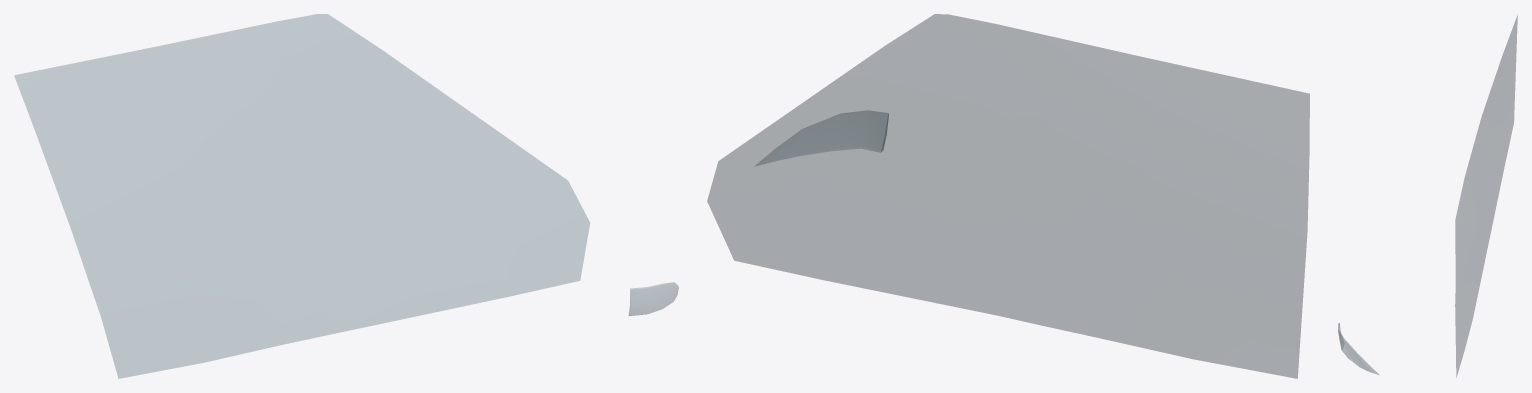
The picture shows the model from 3 angles, left to right: view 1: azimuth 30°, elevation 25°; view 2: azimuth 150°, elevation 25°; view 3: azimuth 270°, elevation 25°; orthographic projection. The views are drawn at different scales.
Parts seen in each view (by area): view 1: SM_NissanPatrol_Door_FR_Glass_Int1; view 2: SM_NissanPatrol_Door_FR_Glass_Int1; view 3: SM_NissanPatrol_Door_FR_Glass_Int1.
Part boxes in pixels (bbox=[...]): SM_NissanPatrol_Door_FR_Glass_Int1: bbox=[14, 14, 678, 378]; SM_NissanPatrol_Door_FR_Glass_Int1: bbox=[707, 14, 1309, 378]; SM_NissanPatrol_Door_FR_Glass_Int1: bbox=[1338, 16, 1517, 377].
Bounding box in the file's own units: 0.9766 × 0.496 × 0.4096.
